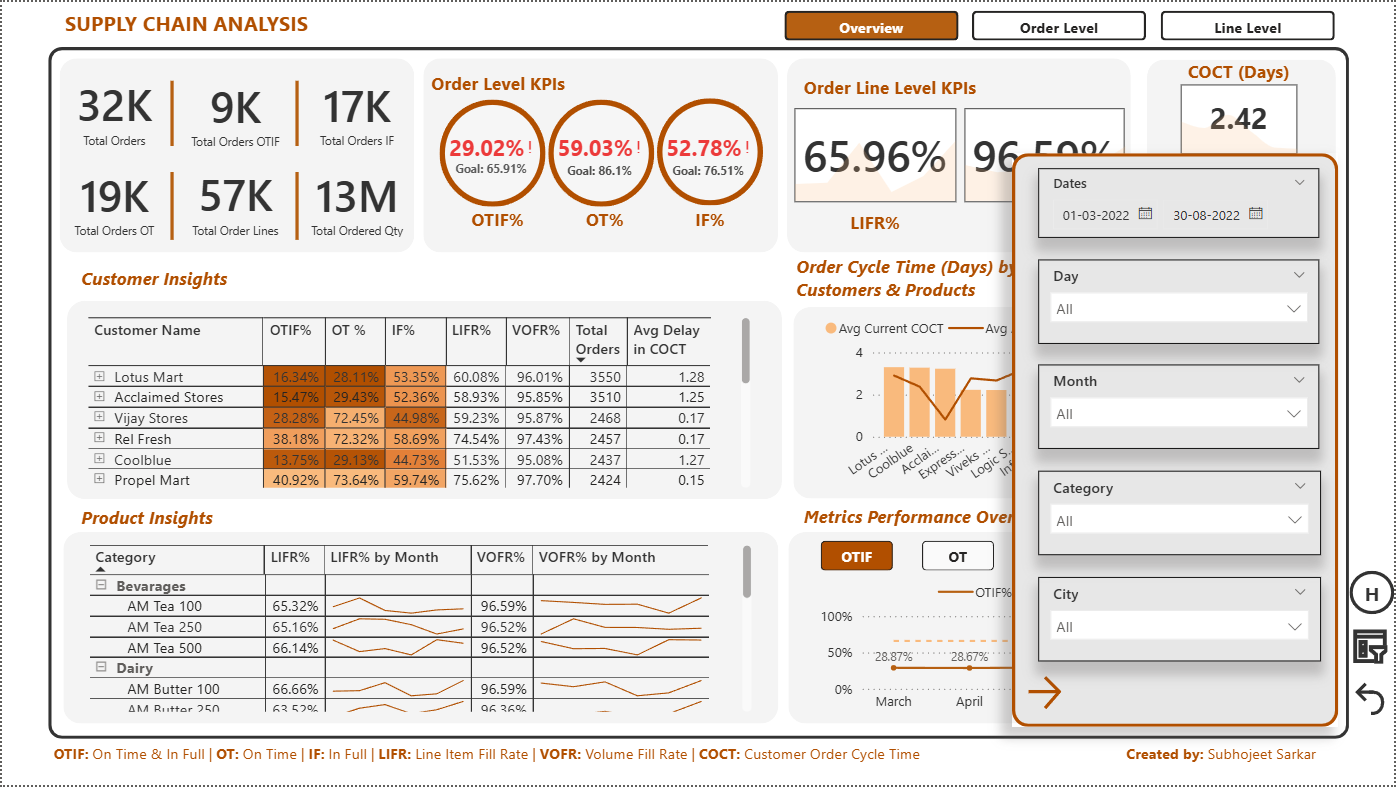

This screenshot's page, from the dashboard's own definition file:
{"tool":"powerbi","page":{"name":"Overview","canvas":[1280,720],"ordinal":2},"visuals":[{"type":"shape","box":[42.5,41.2,1196.2,636.2],"z":0},{"type":"lineChart","title":"OTIF Chart","fields":{"Y":["Measure Table.OTIF%","Measure Table.On Time In Full Target"],"Category":["dim_date.date.Variation.Date Hierarchy.Quarter","dim_date.date.Variation.Date Hierarchy.Month"]},"box":[747.5,522.5,455,138.8],"z":0,"group":"g1"},{"type":"shape","box":[723.5,487.5,501.2,176.2],"z":1000},{"type":"actionButton","title":"OTIF Button","box":[753.7,495.2,66.2,27.5],"z":1000,"group":"g1"},{"type":"shape","box":[727.5,280,501.2,176.2],"z":2000},{"type":"actionButton","title":"OT Button","box":[846.6,495.2,66.2,27.5],"z":2000,"group":"g1"},{"type":"shape","box":[56.2,487.5,657.5,176.2],"z":3000},{"type":"actionButton","title":"IF Button","box":[939.4,495.2,66.2,27.5],"z":3000,"group":"g1"},{"type":"actionButton","title":"LIFR Button","box":[1032.2,495.2,66.2,27.5],"z":4000,"group":"g1"},{"type":"shape","box":[60,275,657.5,182.5],"z":5000},{"type":"actionButton","title":"VOFR Button","box":[1125,495.2,66.2,27.5],"z":5000,"group":"g1"},{"type":"shape","box":[1053.4,52.4,173.8,178.8],"z":6000},{"type":"shape","box":[722.3,51.3,316.2,178.8],"z":7000},{"type":"shape","box":[387.5,51.2,326.2,178.8],"z":8000},{"type":"shape","box":[52.7,51.3,326.2,178.8],"z":9000},{"type":"card","fields":{"Values":["Measure Table.Total Orders"]},"box":[52.4,62.6,101.2,77.5],"z":10000},{"type":"card","fields":{"Values":["Measure Table.Total IF Orders"]},"box":[274.9,61.3,103.8,80],"z":11000},{"type":"card","fields":{"Values":["Measure Table.Total OTIF Orders"]},"box":[159.3,63.8,110,75],"z":12000},{"type":"card","fields":{"Values":["Measure Table.Total OT Orders"]},"box":[52.4,146.9,101.2,73.8],"z":13000},{"type":"card","fields":{"Values":["Measure Table.Total Order Lines"]},"box":[159.3,145.1,110,77.5],"z":14000},{"type":"card","fields":{"Values":["Measure Table.Total Ordered Quantity"]},"box":[274.9,146.9,103.8,73.8],"z":15000},{"type":"kpi","fields":{"TrendLine":["fact_order_lines.agreed_delivery_date"],"Indicator":["Measure Table.OTIF%"],"Goal":["Measure Table.On Time In Full Target"]},"box":[402.5,108.3,97.5,63.8],"z":16000},{"type":"kpi","fields":{"TrendLine":["fact_order_lines.agreed_delivery_date"],"Indicator":["Measure Table.OT%"],"Goal":["Measure Table.On Time Target"]},"box":[502.8,109,97,63],"z":17000},{"type":"kpi","fields":{"TrendLine":["fact_order_lines.agreed_delivery_date"],"Indicator":["Measure Table.IF%"],"Goal":["Measure Table.In Full Target"]},"box":[602.5,109,97,63],"z":18000},{"type":"card","fields":{"Values":["Measure Table.Customer Order Cycle Time"]},"box":[1083.7,76,107.5,63.8],"z":19000},{"type":"card","fields":{"Values":["Measure Table.Average Delay COCT"]},"box":[1083.4,163.9,107.5,62.5],"z":20000},{"type":"areaChart","fields":{"Category":["dim_date.date.Variation.Date Hierarchy.Month"],"Y":["Measure Table.Customer Order Cycle Time"]},"box":[1071.2,83.5,133.8,62.5],"z":21000},{"type":"card","fields":{"Values":["Measure Table.LIFR%"]},"box":[729.1,97.2,148.8,86.2],"z":22000},{"type":"areaChart","fields":{"Y":["Measure Table.LIFR%"],"Category":["dim_date.date.Variation.Date Hierarchy.Month"]},"box":[713.1,107.2,181.2,81.2],"z":23000},{"type":"card","fields":{"Values":["Measure Table.VOFR%"]},"box":[884.7,97.2,147.5,86.2],"z":24000},{"type":"pivotTable","fields":{"Rows":["dim_customers.customer_name","dim_customers.customer_id"],"Values":["Measure Table.OTIF%","Measure Table.OT %","Measure Table.IF%","Measure Table.LIFR%","Measure Table.VOFR%","Measure Table.Total Orders","Measure Table.Average Delay COCT"]},"box":[75,285,618.8,166.2],"z":25000},{"type":"pivotTable","fields":{"Rows":["dim_products.category","dim_products.product_name"],"Values":["Measure Table.LIFR%","SparklineData(Measure Table.LIFR%_[dim_date.date.Variation.Date Hierarchy.Month])","Measure Table.VOFR%","SparklineData(Measure Table.VOFR%_[dim_date.date.Variation.Date Hierarchy.Month])"]},"box":[76.2,494.7,618.8,163.8],"z":26000},{"type":"lineClusteredColumnComboChart","fields":{"Category":["dim_customers.customer_name"],"Y":["Measure Table.Avg Current COCT"],"Y2":["Measure Table.Avg Agreed COCT"]},"box":[751.2,280.2,455,172.5],"z":27000},{"type":"advancedSlicerVisual","fields":{"Values":["COCT Dimension Parameter.COCT Dimension Parameter"]},"box":[1046.2,232.5,185,52.5],"z":28000},{"type":"shape","box":[402.5,89.6,97.5,98.8],"z":29000},{"type":"shape","box":[502.5,89.6,97.5,98.8],"z":30000},{"type":"shape","box":[602.5,88.4,97.5,98.8],"z":31000},{"type":"areaChart","fields":{"Category":["dim_date.date.Variation.Date Hierarchy.Month"],"Y":["Measure Table.VOFR%"]},"box":[868.8,107.2,181.2,81.2],"z":32000},{"type":"areaChart","fields":{"Category":["dim_date.date.Variation.Date Hierarchy.Month"],"Y":["Measure Table.Average Delay COCT"]},"box":[1070.9,168.9,133.8,62.5],"z":33000},{"type":"shape","box":[134.4,72.6,43.8,60],"z":34000},{"type":"shape","box":[134.4,156.3,43.8,62.5],"z":35000},{"type":"shape","box":[248.9,72.5,43.8,60],"z":36000},{"type":"shape","box":[248.9,156.2,43.8,62.5],"z":37000},{"type":"textbox","box":[42.5,677.5,826.2,33.8],"z":38000},{"type":"textbox","box":[1028.8,677.5,210,31.2],"z":39000},{"type":"textbox","box":[390,58.8,161.2,32.5],"z":40000},{"type":"textbox","box":[426.2,183.8,58.8,38.8],"z":41000},{"type":"textbox","box":[527.5,183.8,53.8,31.2],"z":42000},{"type":"textbox","box":[623.8,183.8,53.8,32.5],"z":43000},{"type":"textbox","box":[732.5,62.5,300,41.2],"z":44000},{"type":"textbox","box":[773.8,186.2,58.8,32.5],"z":45000},{"type":"textbox","box":[918.8,186.2,78.8,32.5],"z":46000},{"type":"textbox","box":[1073.8,47.5,127.5,31.2],"z":47000},{"type":"textbox","box":[1051.2,138.8,177.5,27.5],"z":48000},{"type":"textbox","box":[67.5,457.5,148.8,41.2],"z":49000},{"type":"textbox","box":[67.5,237.5,171.2,37.5],"z":50000},{"type":"textbox","box":[725,226.2,413.8,55],"z":51000},{"type":"textbox","box":[732.5,456.2,278.8,32.5],"z":52000},{"type":"actionButton","box":[720,7.5,160,27.5],"z":53000},{"type":"actionButton","box":[892.5,7.5,160,27.5],"z":54000},{"type":"actionButton","box":[1065,7.5,160,27.5],"z":55000},{"type":"actionButton","box":[1237.5,621.2,42.5,40],"z":56000},{"type":"actionButton","box":[1237.5,572.5,42.5,40],"z":57000},{"type":"actionButton","box":[1238.8,522.5,41.2,40],"z":58000},{"type":"group","id":"g1","title":"OTIF","box":[747.5,495.2,455,166],"z":59000},{"type":"textbox","box":[52.5,2.5,300,37.5],"z":64000}]}

Visuals, with their boxes in screenshot pixels (x1, y1, x2, y2), scaled from the page's 1280x720 canvas onto the 1396x787 screenshot:
shape: 46,45,1351,740
"OTIF Chart" lineChart: 815,571,1311,723
shape: 789,533,1336,725
"OTIF Button" actionButton: 822,541,894,571
shape: 793,306,1340,499
"OT Button" actionButton: 923,541,996,571
shape: 61,533,778,725
"IF Button" actionButton: 1025,541,1097,571
"LIFR Button" actionButton: 1126,541,1198,571
shape: 65,301,783,500
"VOFR Button" actionButton: 1227,541,1299,571
shape: 1149,57,1338,253
shape: 788,56,1133,252
shape: 423,56,778,251
shape: 57,56,413,252
card - Measure Table.Total Orders: 57,68,168,153
card - Measure Table.Total IF Orders: 300,67,413,154
card - Measure Table.Total OTIF Orders: 174,70,294,152
card - Measure Table.Total OT Orders: 57,161,168,241
card - Measure Table.Total Order Lines: 174,159,294,243
card - Measure Table.Total Ordered Quantity: 300,161,413,241
kpi - fact_order_lines.agreed_delivery_date x Measure Table.OTIF%: 439,118,545,188
kpi - fact_order_lines.agreed_delivery_date x Measure Table.OT%: 548,119,654,188
kpi - fact_order_lines.agreed_delivery_date x Measure Table.IF%: 657,119,763,188
card - Measure Table.Customer Order Cycle Time: 1182,83,1299,153
card - Measure Table.Average Delay COCT: 1182,179,1299,247
areaChart - dim_date.date.Variation.Date Hierarchy.Month x Measure Table.Customer Order Cycle Time: 1168,91,1314,160
card - Measure Table.LIFR%: 795,106,957,200
areaChart - Measure Table.LIFR% x dim_date.date.Variation.Date Hierarchy.Month: 778,117,975,206
card - Measure Table.VOFR%: 965,106,1126,200
pivotTable - dim_customers.customer_name x dim_customers.customer_id: 82,312,757,493
pivotTable - dim_products.category x dim_products.product_name: 83,541,758,720
lineClusteredColumnComboChart - dim_customers.customer_name x Measure Table.Avg Current COCT: 819,306,1316,495
advancedSlicerVisual - COCT Dimension Parameter.COCT Dimension Parameter: 1141,254,1343,312
shape: 439,98,545,206
shape: 548,98,654,206
shape: 657,97,763,205
areaChart - dim_date.date.Variation.Date Hierarchy.Month x Measure Table.VOFR%: 948,117,1145,206
areaChart - dim_date.date.Variation.Date Hierarchy.Month x Measure Table.Average Delay COCT: 1168,185,1314,253
shape: 147,79,194,145
shape: 147,171,194,239
shape: 271,79,319,145
shape: 271,171,319,239
textbox: 46,741,947,777
textbox: 1122,741,1351,775
textbox: 425,64,601,100
textbox: 465,201,529,243
textbox: 575,201,634,235
textbox: 680,201,739,236
textbox: 799,68,1126,113
textbox: 844,204,908,239
textbox: 1002,204,1088,239
textbox: 1171,52,1310,86
textbox: 1146,152,1340,182
textbox: 74,500,236,545
textbox: 74,260,260,301
textbox: 791,247,1242,307
textbox: 799,499,1103,534
actionButton: 785,8,960,38
actionButton: 973,8,1148,38
actionButton: 1162,8,1336,38
actionButton: 1350,679,1395,723
actionButton: 1350,626,1395,669
actionButton: 1351,571,1395,615
"OTIF" group: 815,541,1311,723
textbox: 57,3,384,44
